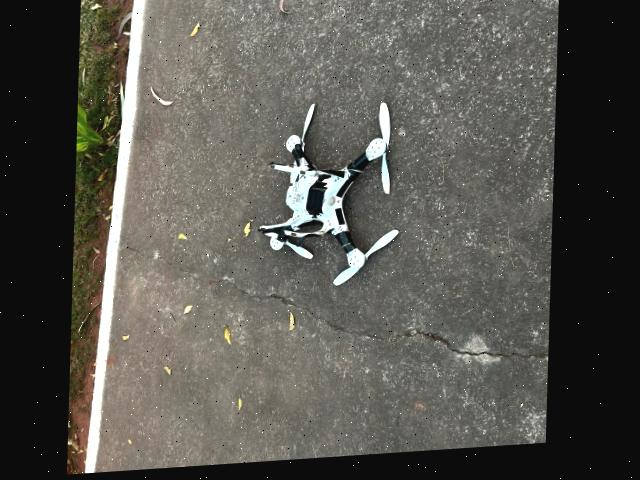drone: (201, 0, 458, 422)
